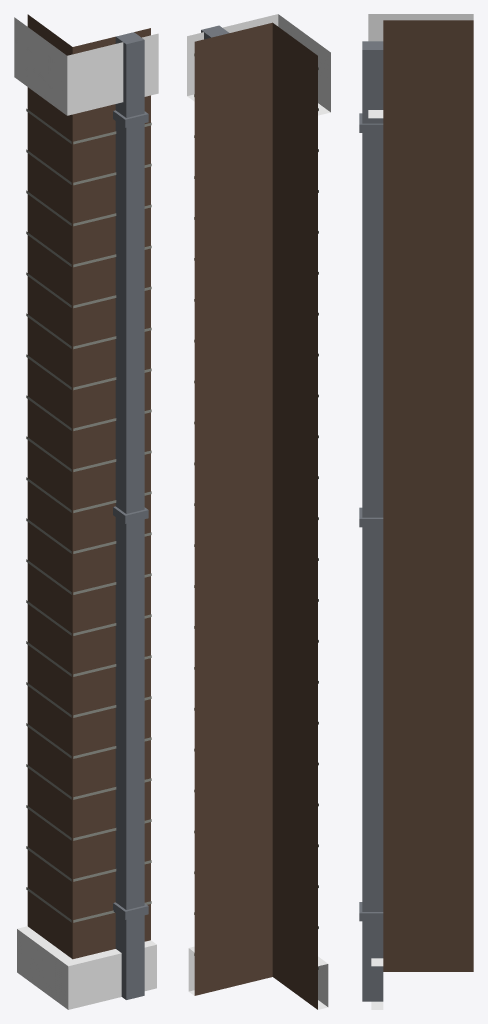
Rendered from mid-c1_close.fbx.
3 views of the same model, side by side, from view 1: azimuth 30°, elevation 25°; view 2: azimuth 210°, elevation 25°; view 3: azimuth 270°, elevation 25° (orthographic).
Parts seen in each view (by area): view 1: a2000s3/800/mid-c1_close; view 2: a2000s3/800/mid-c1_close; view 3: a2000s3/800/mid-c1_close.
Part boxes in pixels (box(x1,y1,x2,y2)): a2000s3/800/mid-c1_close: box(14, 14, 158, 1009); a2000s3/800/mid-c1_close: box(187, 14, 330, 1009); a2000s3/800/mid-c1_close: box(359, 14, 473, 1009).
Bounding box in the file's own units: 0.35 × 3.5 × 0.38.
